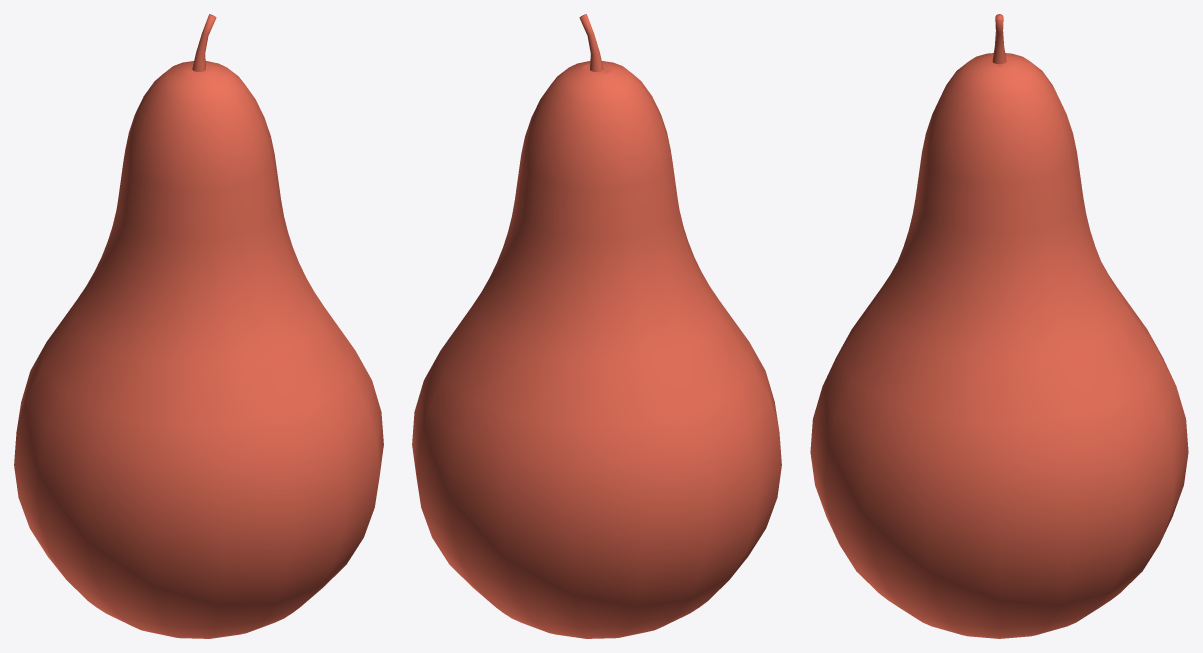
Rendered from PeraBad.fbx.
3 renders of one model, left to right at view 1: azimuth 30°, elevation 25°; view 2: azimuth 150°, elevation 25°; view 3: azimuth 270°, elevation 25°, orthographic.
Parts seen in each view (by area): view 1: Pera.002; view 2: Pera.002; view 3: Pera.002.
Part boxes in pixels (<box>): Pera.002: <box>14,14,383,638</box>; Pera.002: <box>412,14,781,638</box>; Pera.002: <box>810,14,1188,638</box>.
Bounding box in the file's own units: 601 × 1063 × 601.
